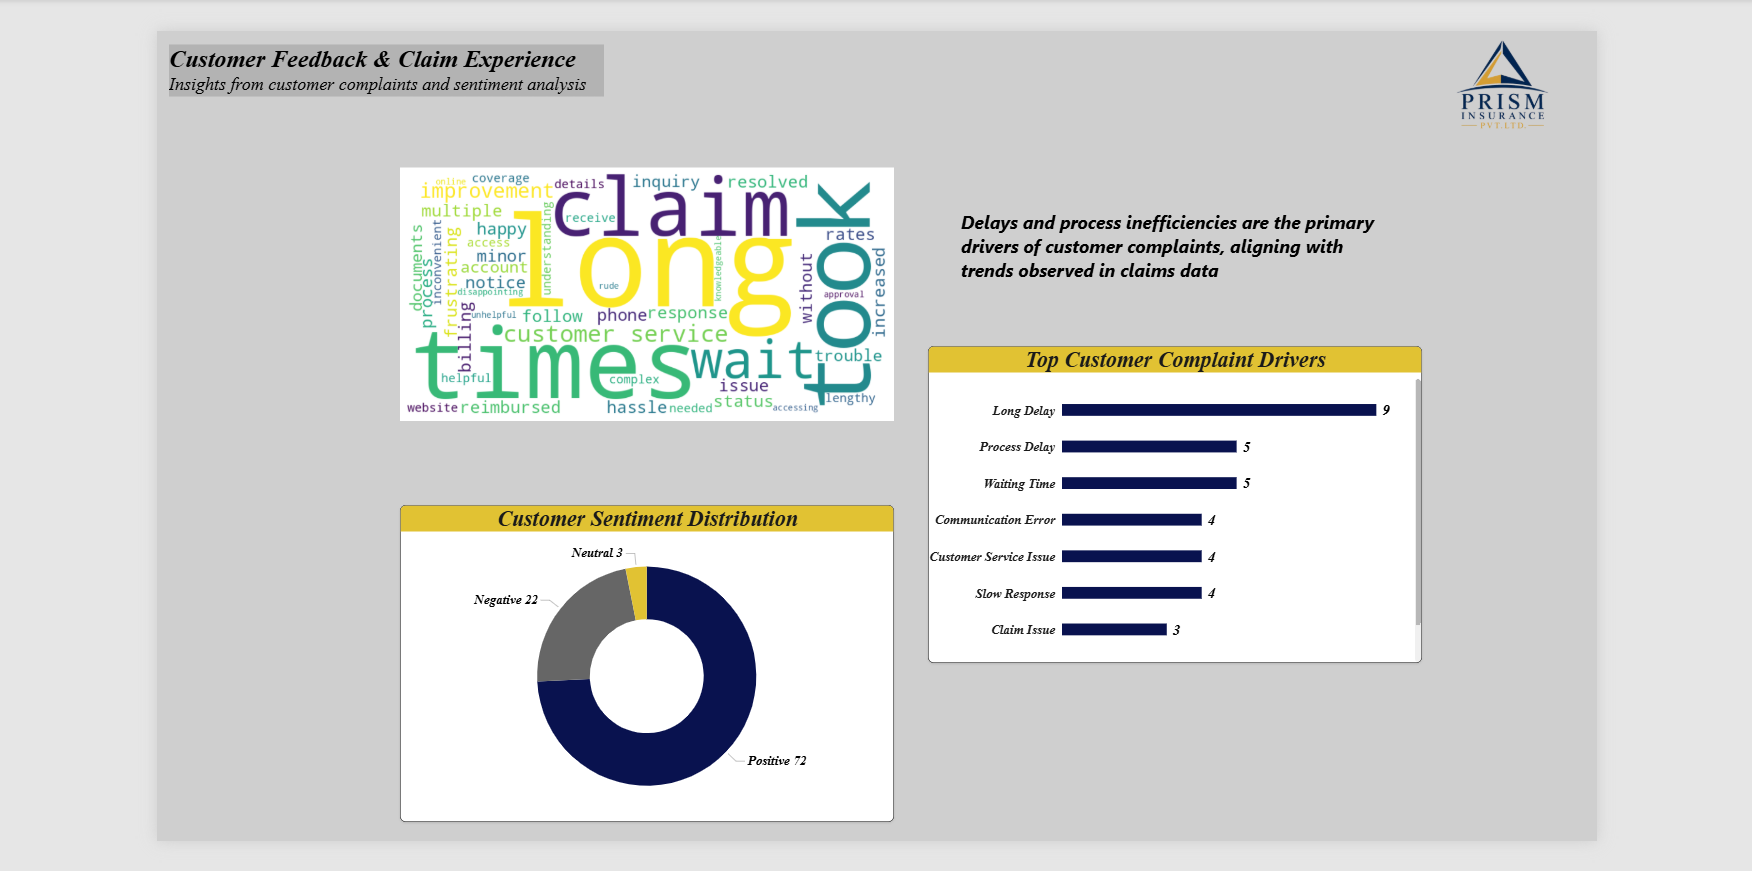

The page's visual inventory and layout, read from the dashboard file:
{"tool":"powerbi","page":{"name":"Page 3","canvas":[1920,1080],"ordinal":2},"visuals":[{"type":"image","box":[324.8,140.8,658.7,422],"z":0},{"type":"barChart","title":"Top Customer Complaint Drivers","fields":{"Y":["Sum(top_keywords.Count)"],"Category":["top_keywords.Keyword"]},"box":[1028.9,420.2,658.7,422.5],"z":1000},{"type":"pieChart","title":"Customer Sentiment Distribution","fields":{"Category":["Sentiment_Output.Sentiment_Label"],"Y":["CountNonNull(Sentiment_Output.Sentiment_Label)"]},"box":[324.8,631.4,658.7,422.5],"z":2000},{"type":"group","id":"g1","title":"Group 1","box":[15.9,18.2,579.2,70.1],"z":3000},{"type":"textbox","box":[15.9,18.2,579.2,37],"z":3000,"group":"g1"},{"type":"textbox","box":[16.1,56.8,574.6,31.5],"z":4000,"group":"g1"},{"type":"textbox","box":[1072.1,238.5,572.4,163.5],"z":4000},{"type":"image","box":[1670.1,0,248.4,150.1],"z":5000}]}

Visuals, with their boxes on the page's 1920x1080 design canvas (x1, y1, x2, y2). These are canvas units, not pixel positions in the 1752x871 screenshot, which may show the page scaled, cropped or inside an application window:
image: bbox=(325, 141, 984, 563)
"Top Customer Complaint Drivers" barChart: bbox=(1029, 420, 1688, 843)
"Customer Sentiment Distribution" pieChart: bbox=(325, 631, 984, 1054)
"Group 1" group: bbox=(16, 18, 595, 88)
textbox: bbox=(16, 18, 595, 55)
textbox: bbox=(16, 57, 591, 88)
textbox: bbox=(1072, 238, 1644, 402)
image: bbox=(1670, 0, 1918, 150)
